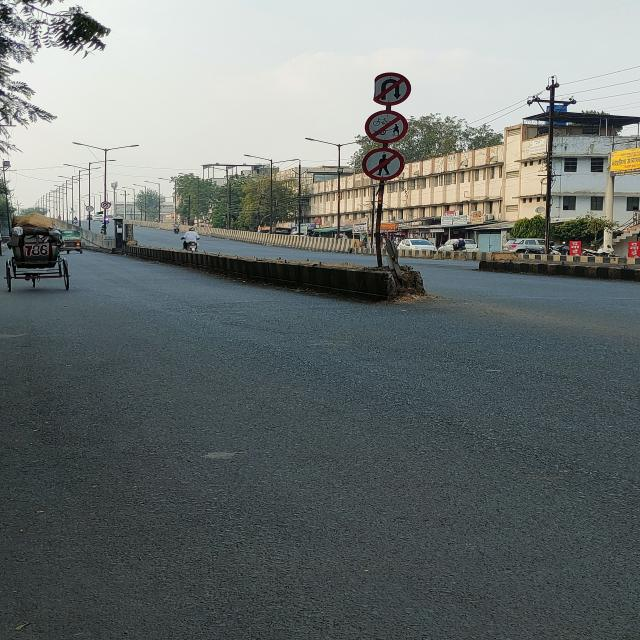CYCLE_PROHIBITED: (365, 110, 409, 145)
